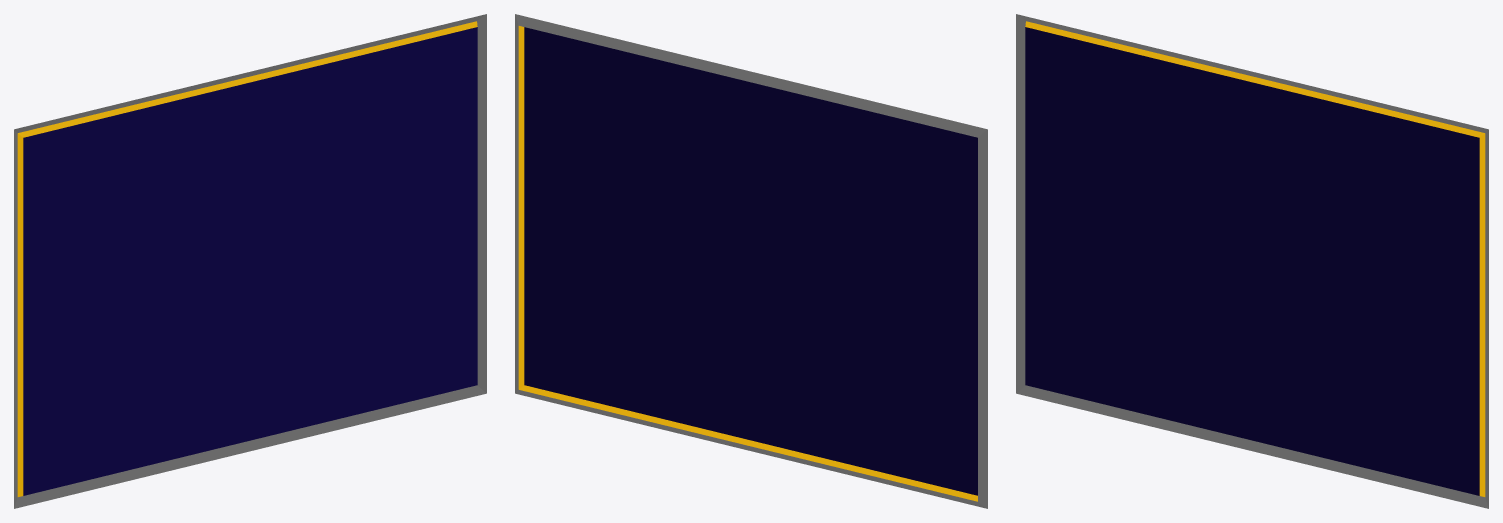
File: info-base-plate.glb
3 views of the same model, side by side, from view 1: azimuth 30°, elevation 25°; view 2: azimuth 150°, elevation 25°; view 3: azimuth 330°, elevation 25° (orthographic).
Visible parts, largest first — view 1: info- plate; view 2: info- plate; view 3: info- plate.
Boxes of the visible parts, x1,y1,x2,y2 form: info- plate: [14, 14, 486, 508]; info- plate: [515, 14, 987, 508]; info- plate: [1016, 14, 1488, 508].
Size of the model in its own units: 3.13 by 2.4 by 0.0359.
1 material, 1 textured.
